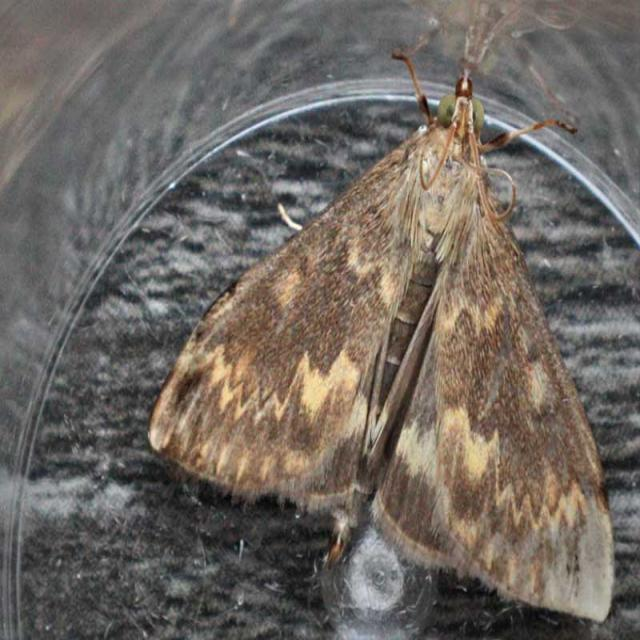cornborer-Adult-: (145, 49, 625, 629)
